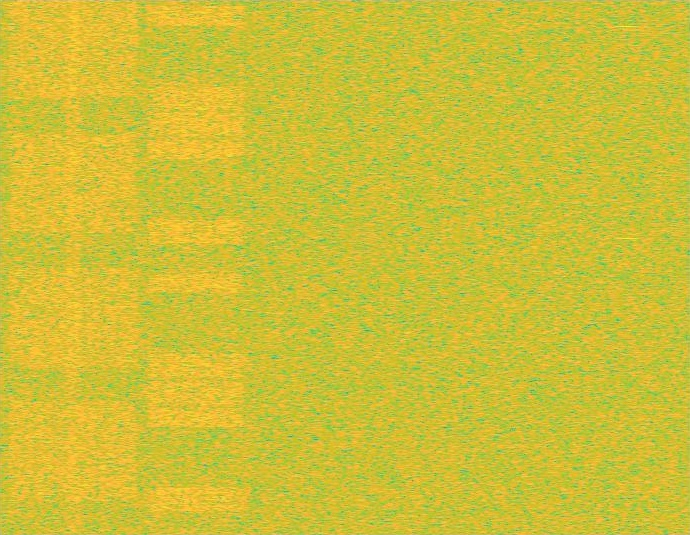5G: (5, 0, 143, 534)
DSSS: (64, 0, 83, 534)
LTE: (144, 0, 248, 534)
Radar: (620, 0, 634, 534)
